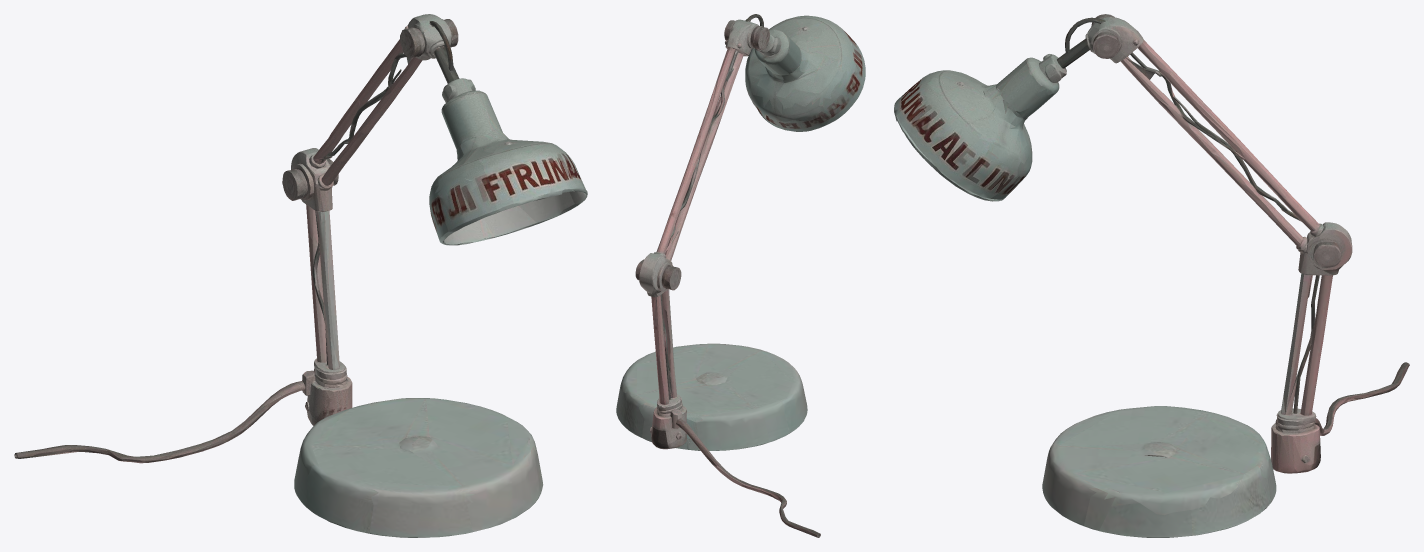
File: lampada_tavolo_B.glb
The picture shows the model from 3 angles, left to right: view 1: azimuth 30°, elevation 25°; view 2: azimuth 150°, elevation 25°; view 3: azimuth 270°, elevation 25°; orthographic projection. The views are drawn at different scales.
Parts seen in each view (by area): view 1: Mesh_0; view 2: Mesh_0; view 3: Mesh_0.
Part boxes in pixels (box(x1,y1,x2,y2)): Mesh_0: box(14, 14, 587, 537); Mesh_0: box(616, 14, 865, 537); Mesh_0: box(894, 14, 1409, 537).
Bounding box in the file's own units: 0.3607 × 0.45 × 0.4517.
1 material, 1 textured.
